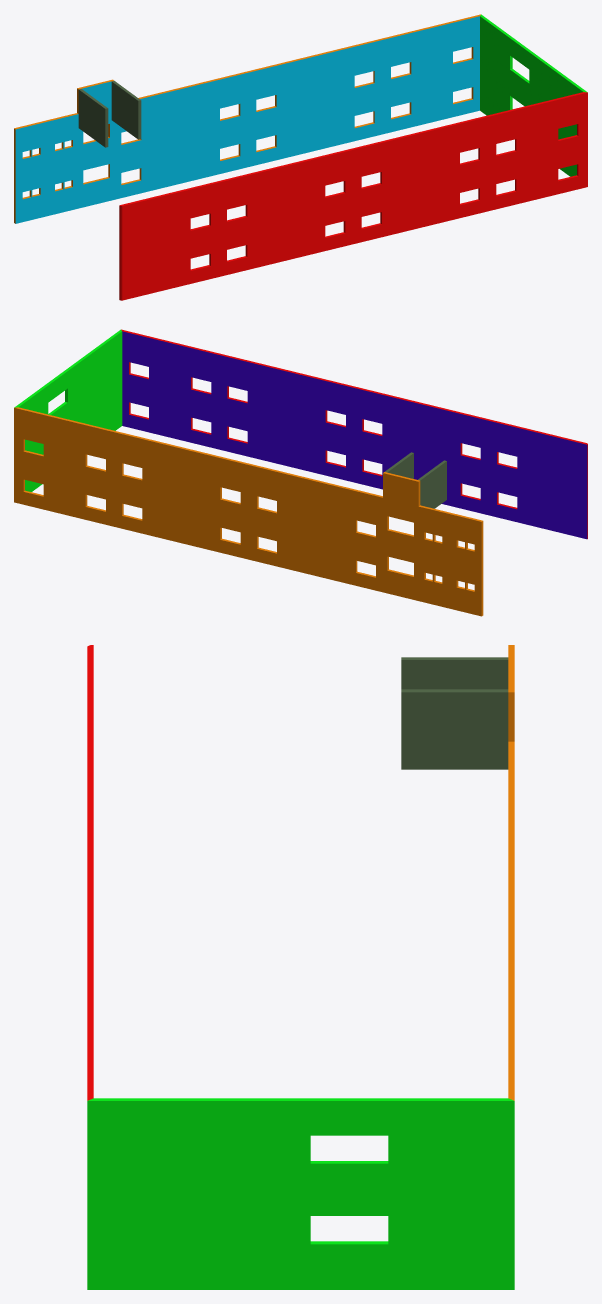
Rendered from BridgeOuterWall.FBX.
3 renders of one model, top to bottom at view 1: azimuth 30°, elevation 25°; view 2: azimuth 150°, elevation 25°; view 3: azimuth 270°, elevation 25°, orthographic. The views are drawn at different scales.
Parts seen in each view (by area): view 1: Bridge Outer Wall; view 2: Bridge Outer Wall; view 3: Bridge Outer Wall.
Part boxes in pixels (x1,y1,x2,y2): Bridge Outer Wall: (14, 14, 587, 300); Bridge Outer Wall: (14, 329, 587, 616); Bridge Outer Wall: (87, 645, 514, 1289).
Bounding box in the file's own units: 4232 × 1031 × 1676.
